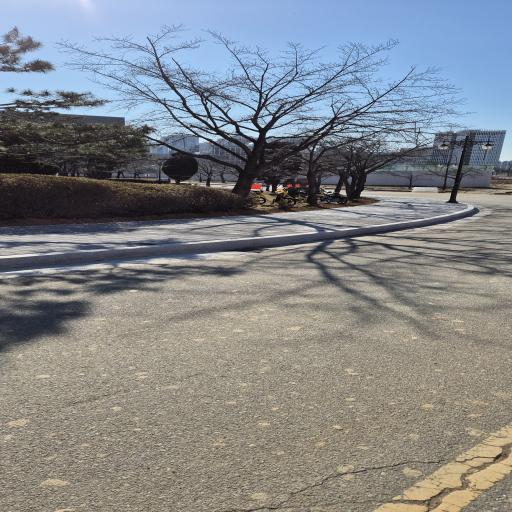drain: (224, 247, 275, 253)
